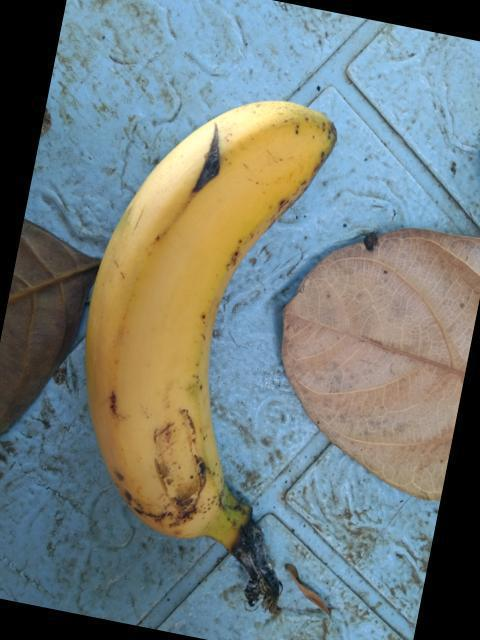ripe: (52, 94, 344, 589)
